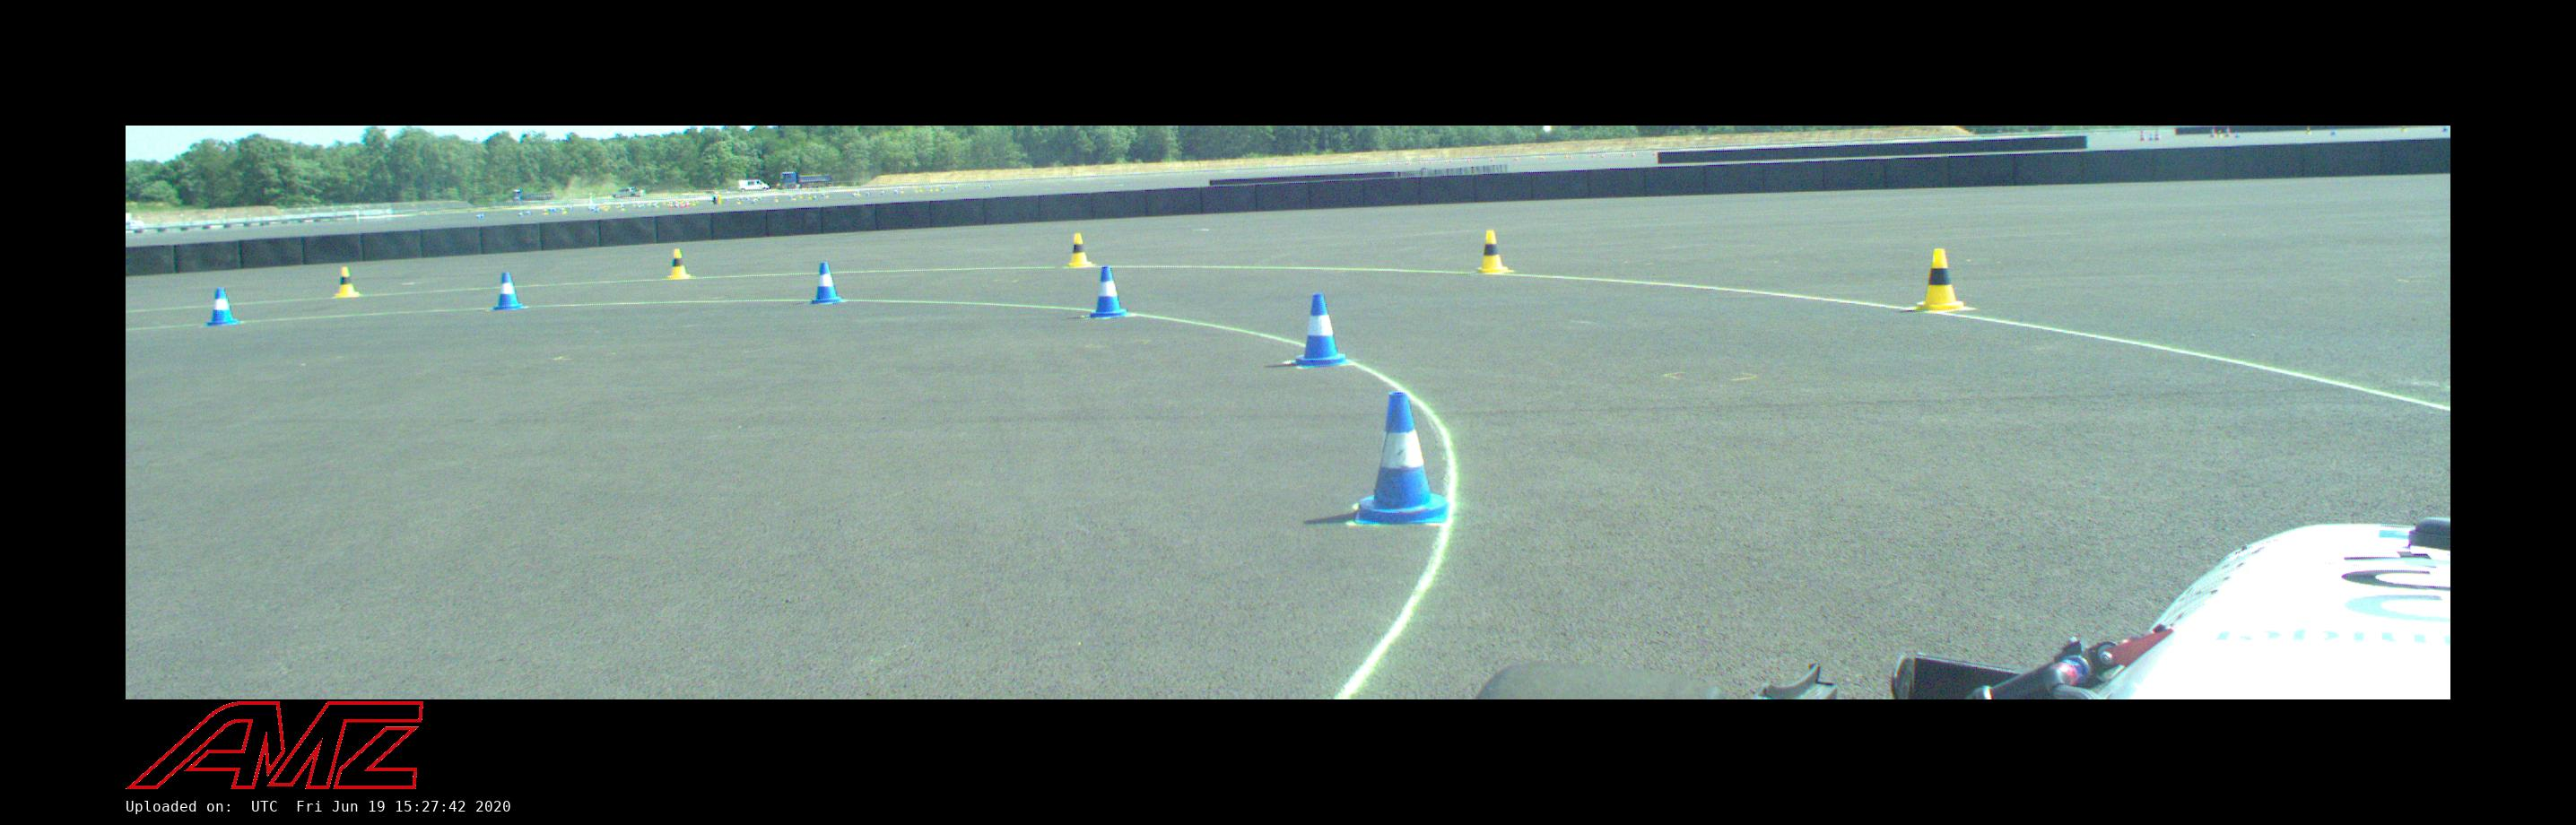blue_cone: (1354, 394, 1451, 524), (1293, 294, 1352, 366), (1086, 268, 1129, 317), (808, 261, 843, 304), (204, 288, 240, 325), (491, 271, 524, 309)
yellow_cone: (1916, 248, 1965, 311), (1474, 230, 1515, 273), (1068, 233, 1096, 268), (334, 268, 363, 297), (667, 248, 692, 279)
